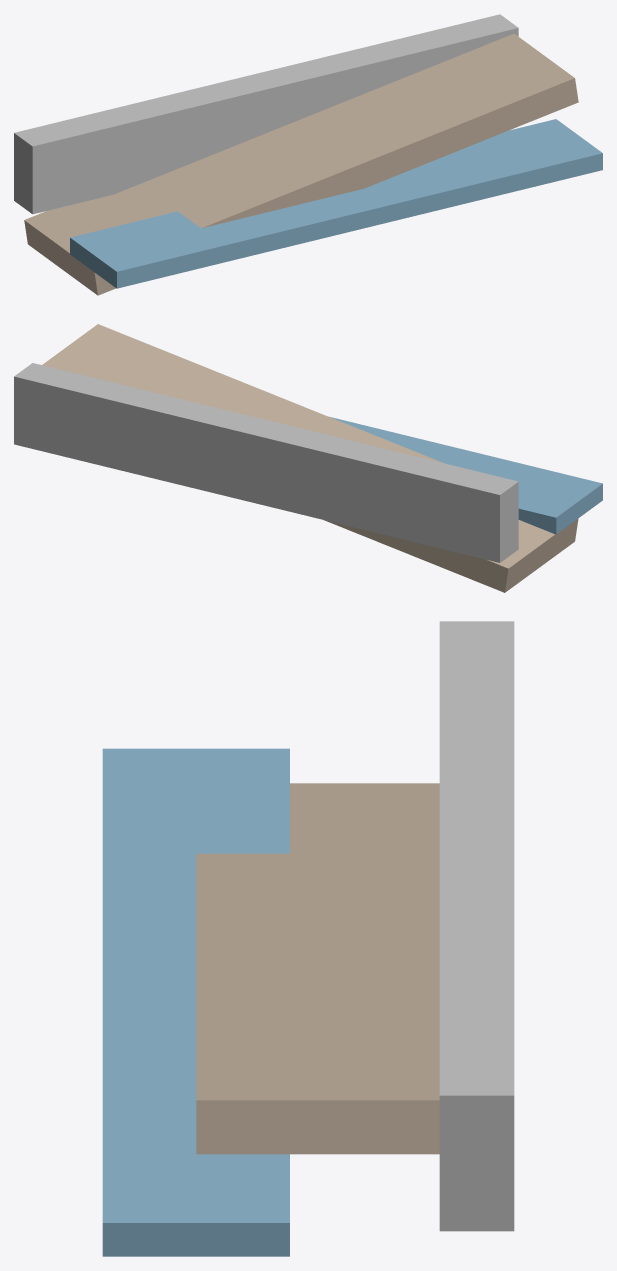
File: seawall_transition.glb
3 views of the same model, one above another, from view 1: azimuth 30°, elevation 25°; view 2: azimuth 150°, elevation 25°; view 3: azimuth 270°, elevation 25° (orthographic). The views are drawn at different scales.
Visible parts, largest first — view 1: grade, wall, water; view 2: wall, grade, water; view 3: grade, water, wall.
Boxes of the visible parts, bbox=[...] form: grade: bbox=[24, 33, 578, 295]; wall: bbox=[14, 14, 518, 214]; water: bbox=[70, 119, 602, 288]; wall: bbox=[14, 363, 518, 562]; grade: bbox=[42, 324, 578, 592]; water: bbox=[329, 416, 602, 534]; grade: bbox=[196, 783, 439, 1154]; water: bbox=[102, 748, 289, 1256]; wall: bbox=[439, 621, 514, 1231].
Bounding box in the file's own units: 12 × 2.49 × 4.4.
